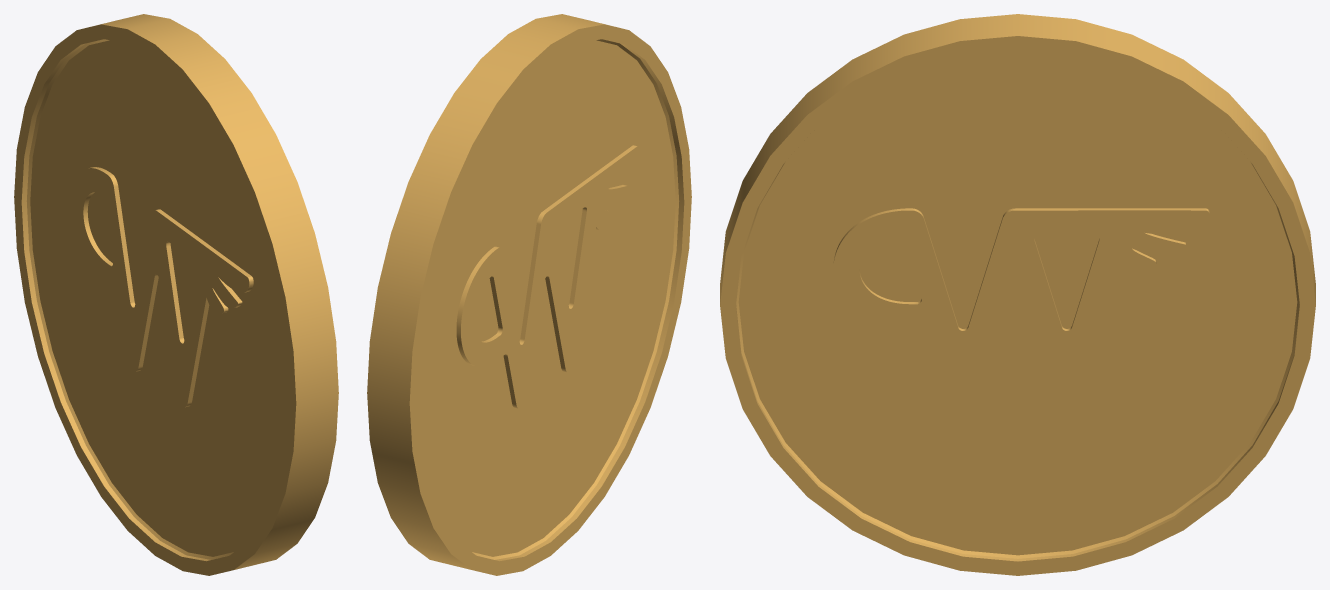
File: PWT.gltf
3 renders of one model, left to right at view 1: azimuth 30°, elevation 25°; view 2: azimuth 150°, elevation 25°; view 3: azimuth 270°, elevation 25°, orthographic. The views are drawn at different scales.
Visible parts, largest first — view 1: Cylinder, Curve.001; view 2: Cylinder, Curve.001; view 3: Cylinder, Curve.
Boxes of the visible parts, x1,y1,x2,y2 form: Cylinder: (14, 14, 338, 575); Curve.001: (71, 167, 253, 407); Cylinder: (367, 14, 691, 575); Curve.001: (456, 145, 638, 409); Cylinder: (720, 14, 1315, 575); Curve: (833, 208, 1209, 398).
Bounding box in the file's own units: 0.1742 × 2 × 2.
